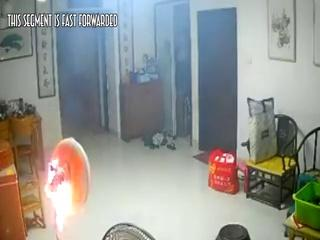Fire: (49, 161, 80, 239)
